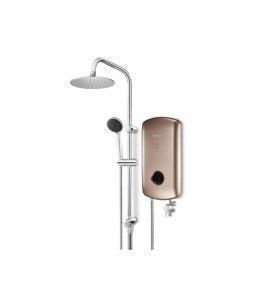Ducha: (67, 48, 209, 244)
